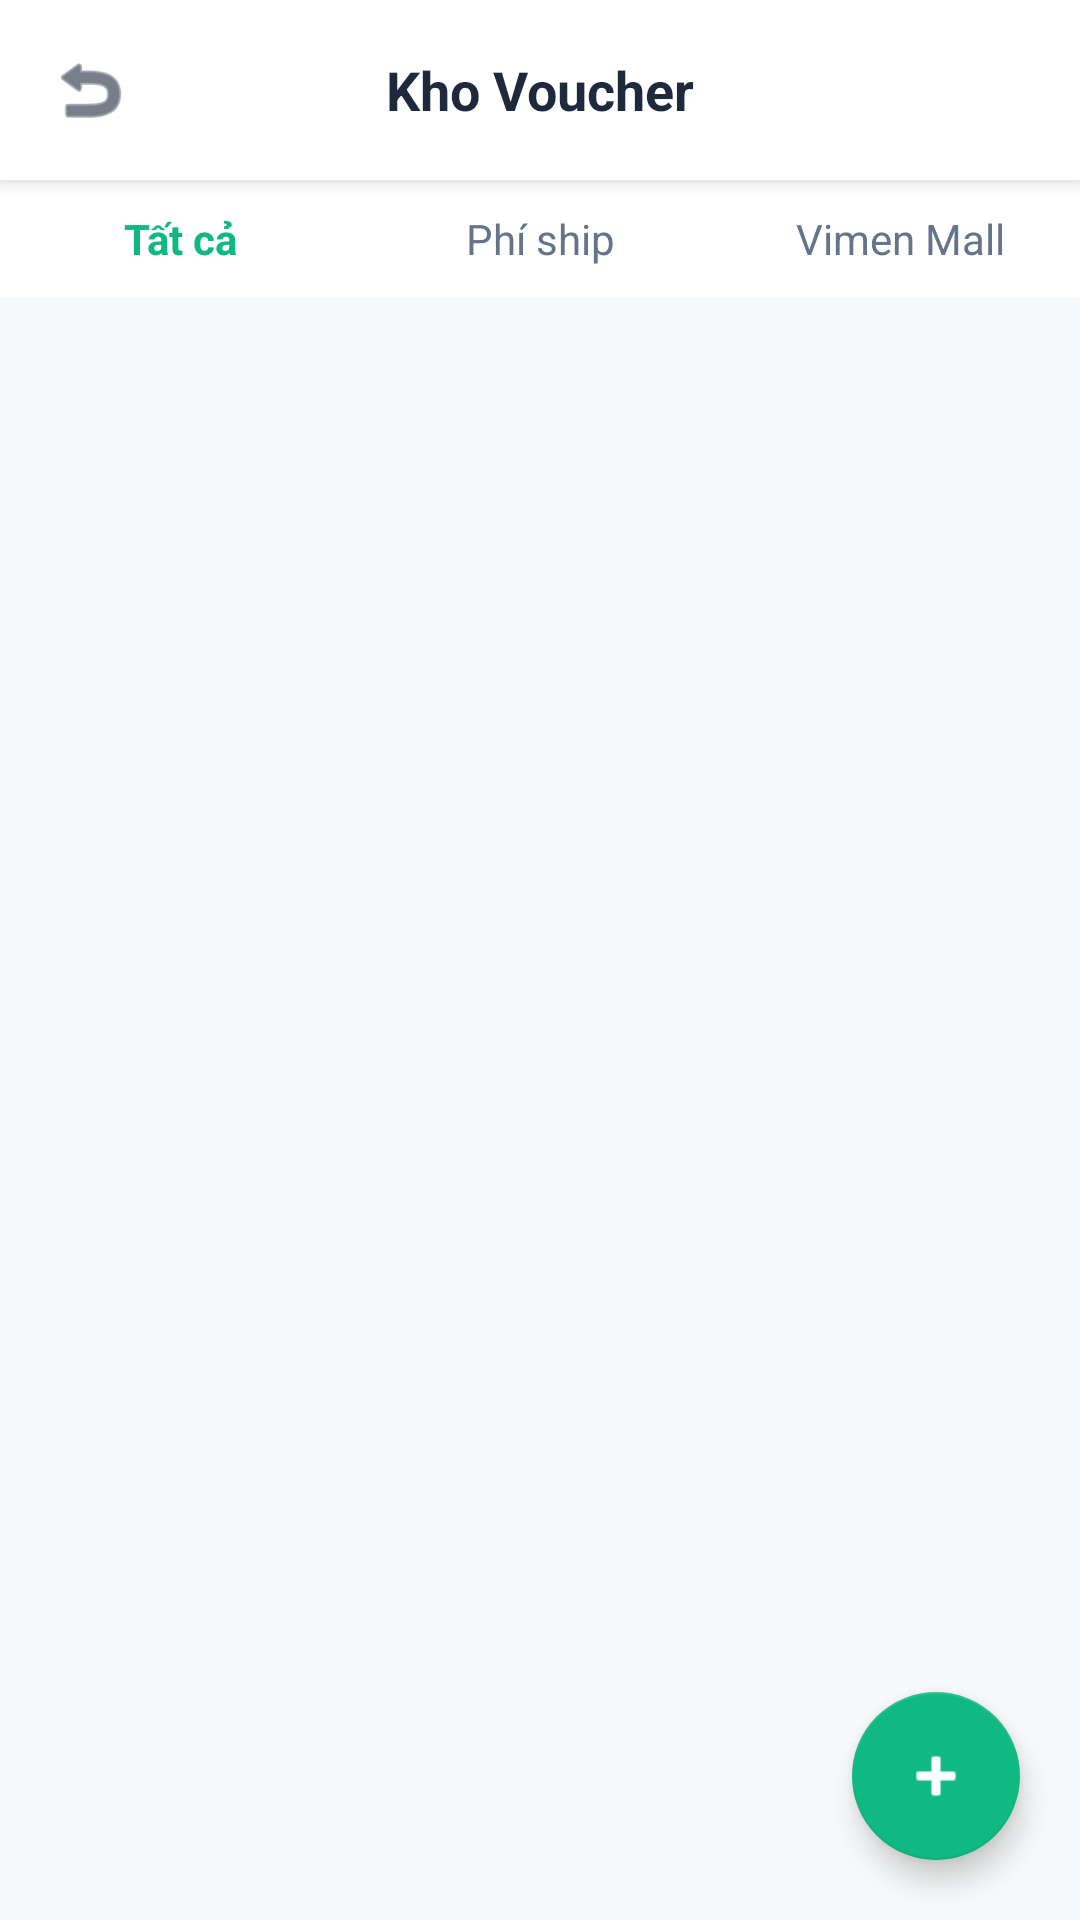

Point at icon controls on the screen. Image size 1080w x 1920h, points as (x=x, y=y).
add: (x=936, y=1776)
revert: (x=91, y=90)
